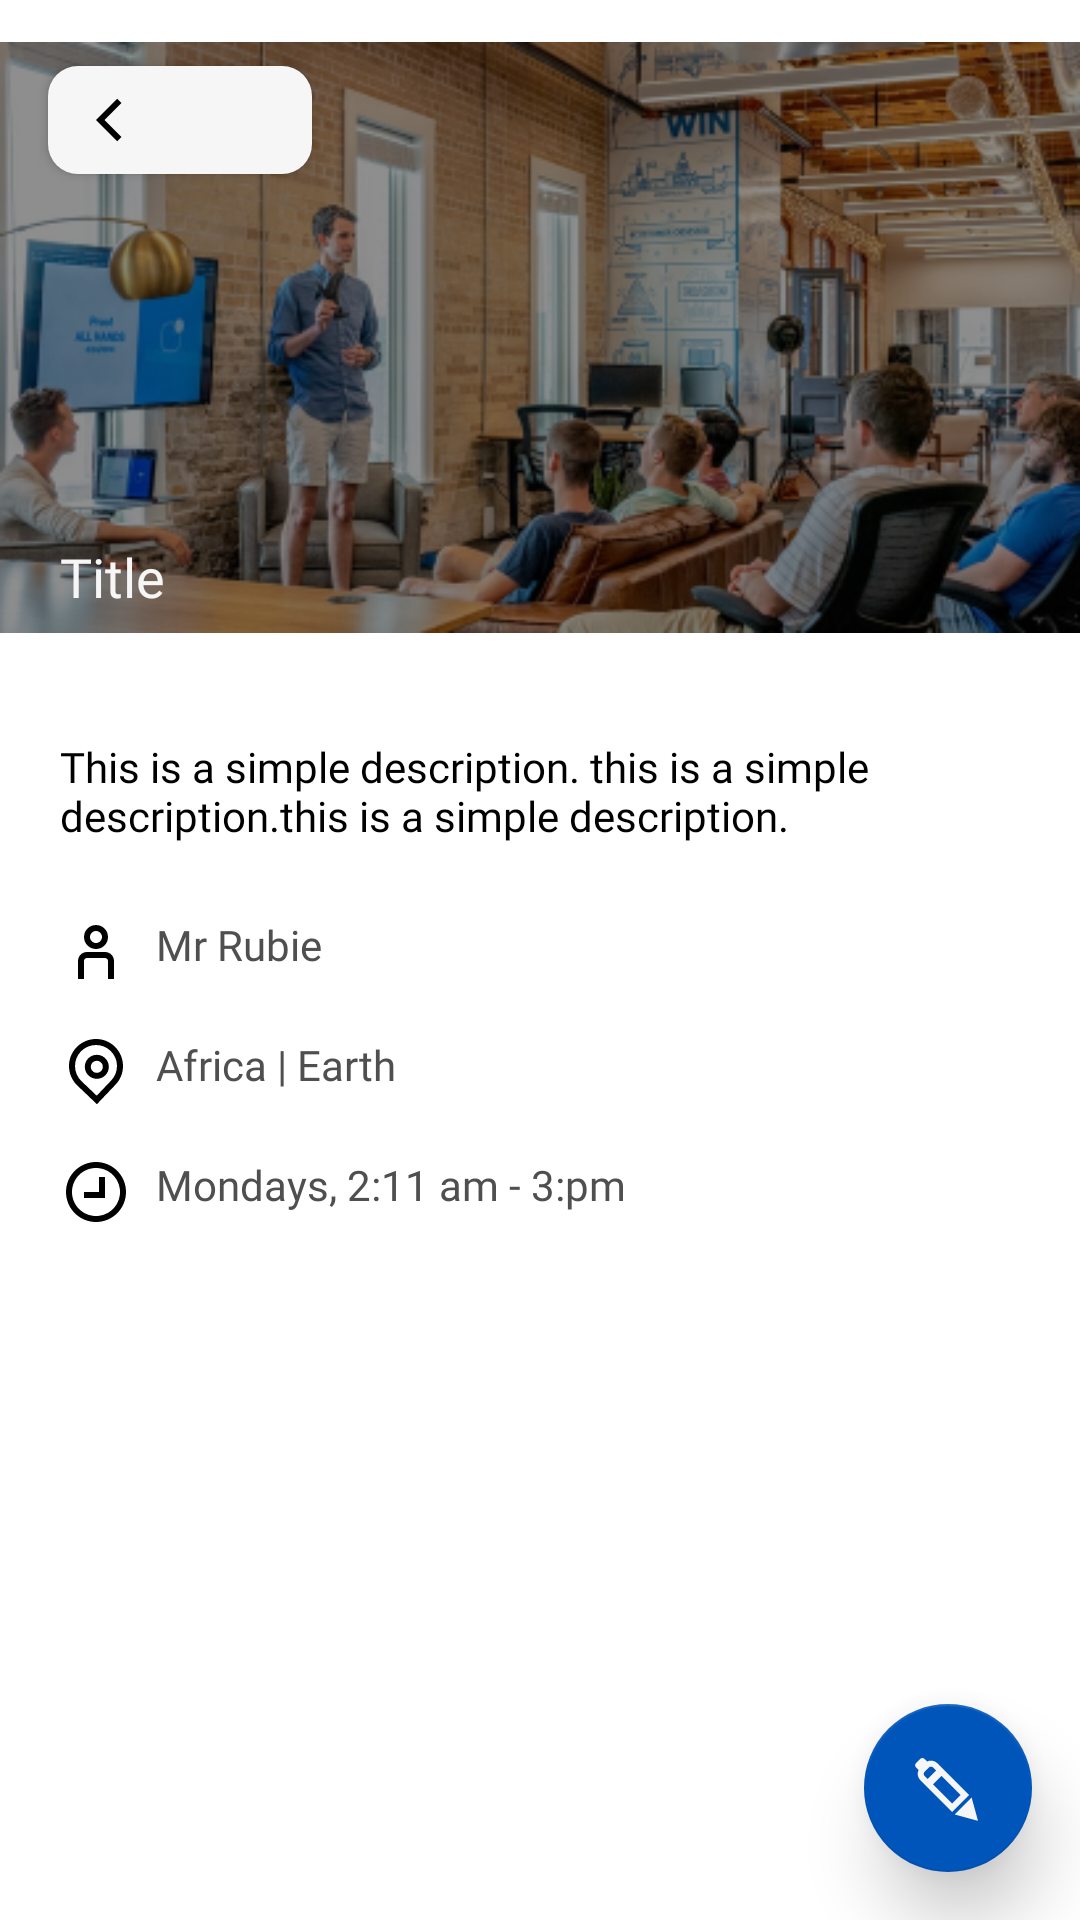

Where to tap for icons on this 1080px x 1920px app screen, as (x=x, y=y):
chevron left: (x=180, y=120)
pen: (x=948, y=1788)
